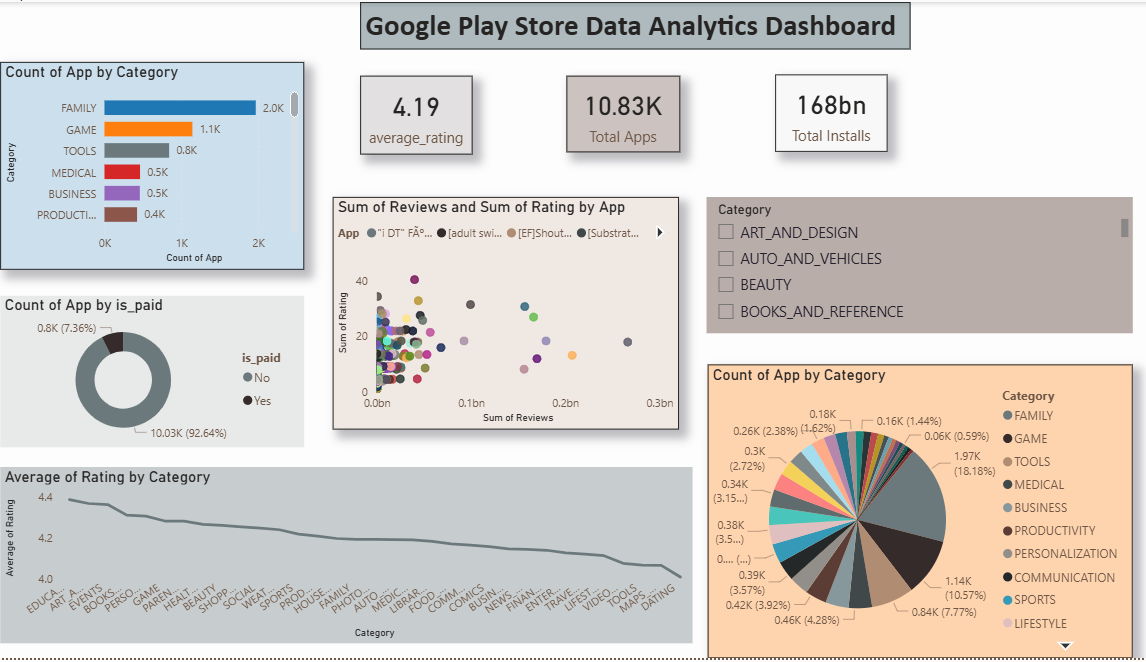

What the dashboard file says about the page in this screenshot:
{"tool":"powerbi","page":{"name":"powerbi project","canvas":[1280,720],"ordinal":0},"visuals":[{"type":"textbox","box":[413,0,603.8,52.1],"z":0},{"type":"card","fields":{"Values":["Avg(Cleaned_Play_Store_Data.Rating)"]},"box":[413,81,123.5,86.4],"z":1000},{"type":"card","fields":{"Values":["CountNonNull(Cleaned_Play_Store_Data.App)"]},"box":[639.5,81,124.9,83.7],"z":2000},{"type":"card","fields":{"Values":["Sum(Cleaned_Play_Store_Data.Installs)"]},"box":[868.6,79.6,123.5,85.1],"z":3000},{"type":"clusteredBarChart","fields":{"Category":["Cleaned_Play_Store_Data.Category"],"Y":["CountNonNull(Cleaned_Play_Store_Data.App)"]},"box":[17.8,65.9,333.4,227.8],"z":4000},{"type":"pieChart","fields":{"Category":["Cleaned_Play_Store_Data.Category"],"Y":["CountNonNull(Cleaned_Play_Store_Data.App)"]},"box":[794.5,397.9,466.6,322.5],"z":5000},{"type":"scatterChart","fields":{"X":["Sum(Cleaned_Play_Store_Data.Reviews)"],"Y":["Sum(Cleaned_Play_Store_Data.Rating)"],"Series":["Cleaned_Play_Store_Data.App"]},"box":[382.8,214.1,380.1,255.2],"z":6000},{"type":"lineChart","fields":{"Category":["Cleaned_Play_Store_Data.Category"],"Y":["Avg(Cleaned_Play_Store_Data.Rating)"]},"box":[17.8,510.5,760.2,193.5],"z":7000},{"type":"donutChart","fields":{"Category":["Cleaned_Play_Store_Data.is_paid"],"Y":["CountNonNull(Cleaned_Play_Store_Data.App)"]},"box":[17.8,322.5,333.4,166],"z":8000},{"type":"slicer","fields":{"Values":["Cleaned_Play_Store_Data.Category"]},"box":[793.1,214.1,467.9,149.6],"z":9000}]}

Visuals, with their boxes in screenshot pixels (x1, y1, x2, y2), scaled from the page's 1280x720 canvas onto the 1146x662 screenshot:
textbox: bbox=[370, 0, 910, 48]
card - Avg(Cleaned_Play_Store_Data.Rating): bbox=[370, 74, 480, 154]
card - CountNonNull(Cleaned_Play_Store_Data.App): bbox=[573, 74, 684, 151]
card - Sum(Cleaned_Play_Store_Data.Installs): bbox=[778, 73, 888, 151]
clusteredBarChart - Cleaned_Play_Store_Data.Category x CountNonNull(Cleaned_Play_Store_Data.App): bbox=[16, 61, 314, 270]
pieChart - Cleaned_Play_Store_Data.Category x CountNonNull(Cleaned_Play_Store_Data.App): bbox=[711, 366, 1129, 661]
scatterChart - Sum(Cleaned_Play_Store_Data.Reviews) x Sum(Cleaned_Play_Store_Data.Rating): bbox=[343, 197, 683, 431]
lineChart - Cleaned_Play_Store_Data.Category x Avg(Cleaned_Play_Store_Data.Rating): bbox=[16, 469, 697, 647]
donutChart - Cleaned_Play_Store_Data.is_paid x CountNonNull(Cleaned_Play_Store_Data.App): bbox=[16, 297, 314, 449]
slicer - Cleaned_Play_Store_Data.Category: bbox=[710, 197, 1129, 334]
